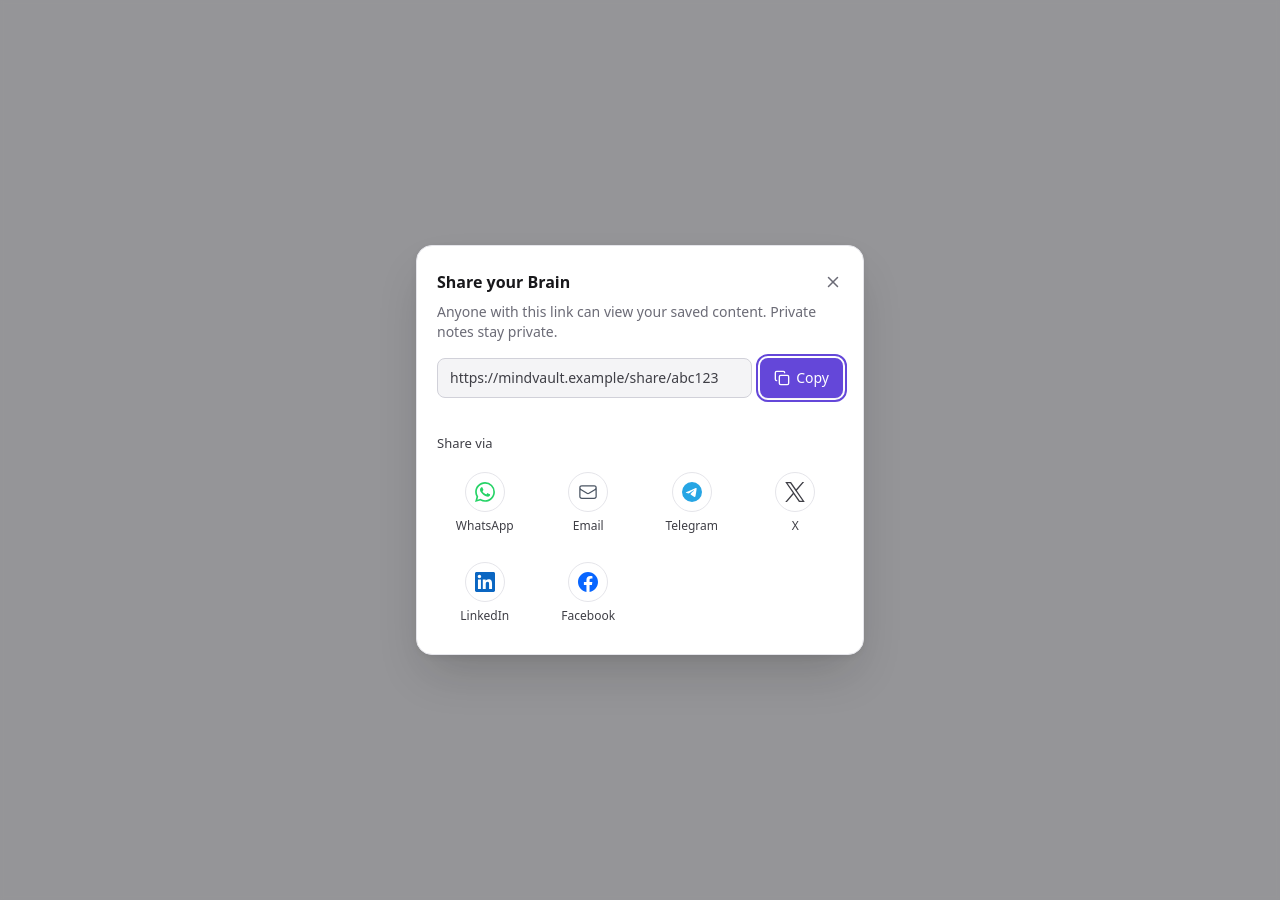
ShareDialog › copies the link to the clipboard
Click the button "Copy". click: (802, 378)
box: [760,358,843,398]
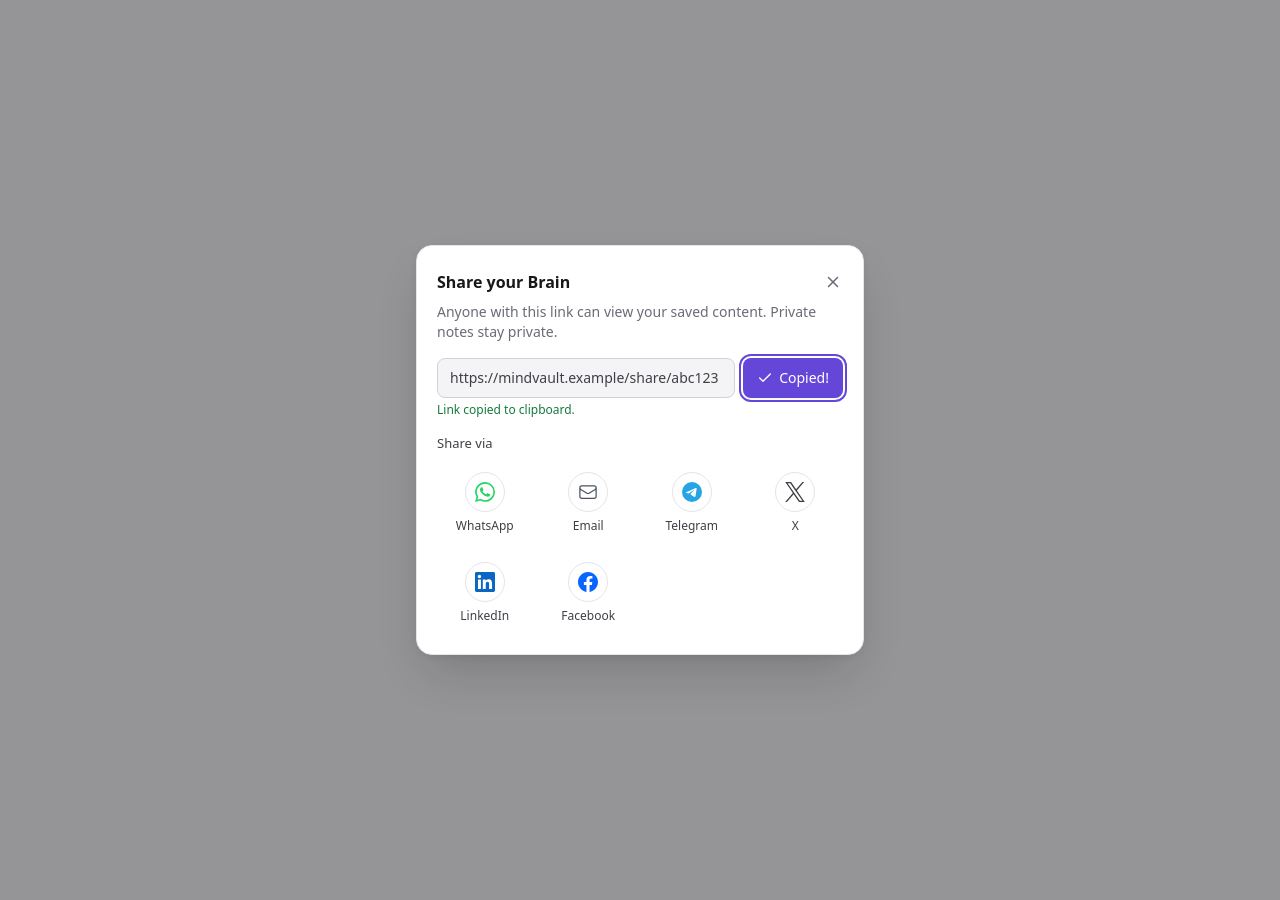
Expected: the button "Copied!" is shown, [743,358,843,398]
Expected: the text "Link copied to clipboard." is shown, [437,401,575,418]
